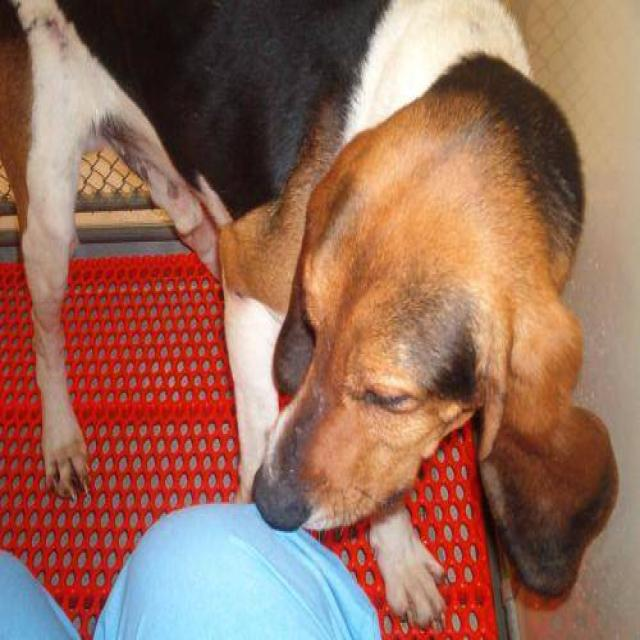dog: (0, 0, 619, 626)
